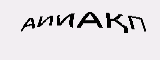А: (75, 10, 102, 29), (19, 15, 37, 32)
И: (55, 10, 74, 28), (36, 13, 54, 28)
П: (126, 13, 149, 32)
Қ: (104, 9, 130, 33)
